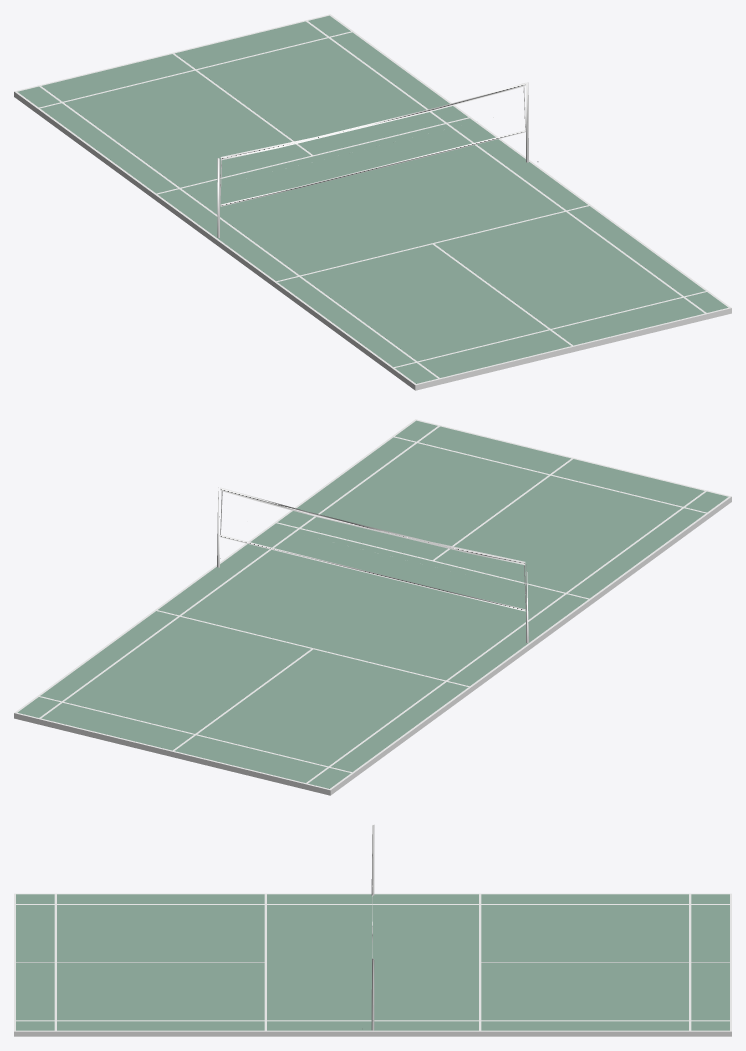
Rendered from Badminton_court.glb.
3 views of the same model, one above another, from view 1: azimuth 30°, elevation 25°; view 2: azimuth 150°, elevation 25°; view 3: azimuth 270°, elevation 25° (orthographic). The views are drawn at different scales.
Visible parts, largest first — view 1: 3d66-Editable_mesh-22879316-007, 3d66-Editable_mesh-22879316-006, 3d66-Editable_mesh-22879316-008; view 2: 3d66-Editable_mesh-22879316-007, 3d66-Editable_mesh-22879316-006, 3d66-Editable_mesh-22879316-008; view 3: 3d66-Editable_mesh-22879316-007, 3d66-Editable_mesh-22879316-006.
Part boxes in pixels (x1,y1,x2,y2): 3d66-Editable_mesh-22879316-007: (17, 15, 728, 383); 3d66-Editable_mesh-22879316-006: (14, 14, 731, 390); 3d66-Editable_mesh-22879316-008: (220, 82, 525, 206); 3d66-Editable_mesh-22879316-007: (17, 420, 728, 788); 3d66-Editable_mesh-22879316-006: (14, 419, 731, 795); 3d66-Editable_mesh-22879316-008: (220, 487, 525, 611); 3d66-Editable_mesh-22879316-007: (16, 894, 729, 1030); 3d66-Editable_mesh-22879316-006: (14, 824, 731, 1036).
Bounding box in the file's own units: 3.06 × 0.7881 × 6.7.
